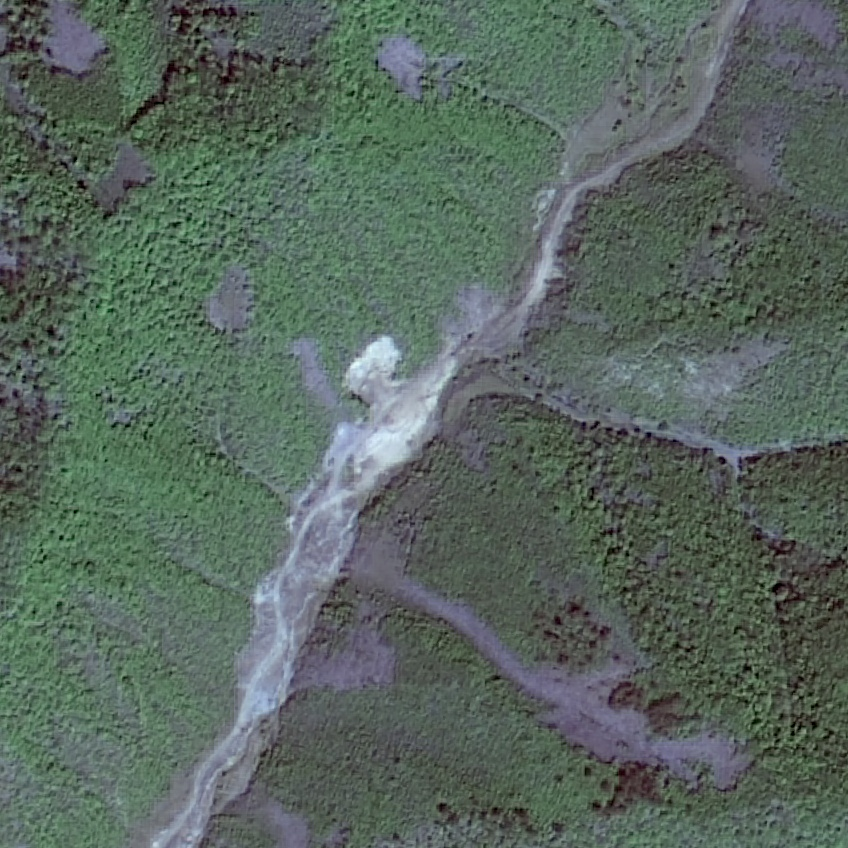slope: (315, 322, 468, 505)
